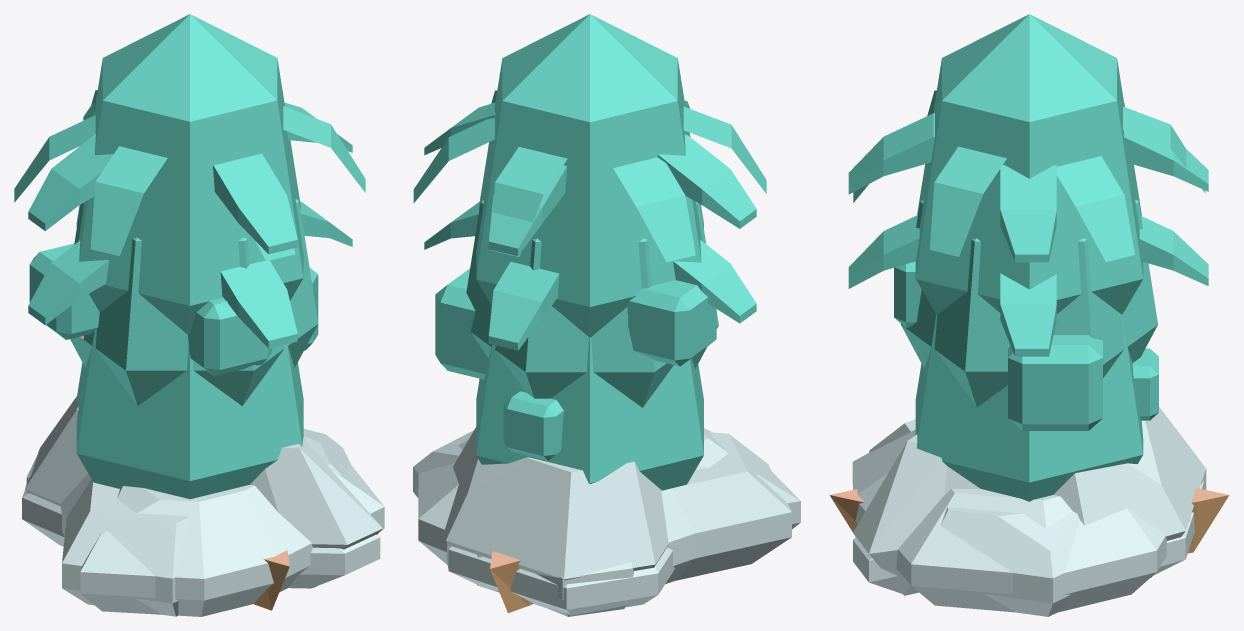
Rendered from nature.glb.
The picture shows the model from 3 angles, left to right: view 1: azimuth 30°, elevation 25°; view 2: azimuth 150°, elevation 25°; view 3: azimuth 270°, elevation 25°; orthographic projection.
Visible parts, largest first — view 1: tree_default, tree_fat, stone_largeC, tree_oak, stone_largeB, stone_largeE, tree_palmTall, tree_palmShort, tree_palmBend, tree_detailed, stone_largeA, canoe; view 2: tree_default, stone_largeB, tree_fat, stone_largeE, tree_detailed, tree_palmBend, tree_oak, tree_palmShort, tree_palmTall, stone_largeA, stone_largeC, canoe; view 3: tree_default, stone_largeC, tree_fat, stone_largeB, tree_oak, tree_palmBend, tree_detailed, tree_palmTall, tree_palmShort, stone_largeE, canoe, stone_largeA.
Part boxes in pixels (<box>): tree_default: <box>76,14,303,334</box>; tree_fat: <box>76,328,303,499</box>; stone_largeC: <box>26,431,384,616</box>; tree_oak: <box>70,199,318,405</box>; stone_largeB: <box>25,396,382,587</box>; stone_largeE: <box>60,428,351,616</box>; tree_palmTall: <box>28,101,352,254</box>; tree_palmShort: <box>28,201,352,348</box>; tree_palmBend: <box>14,90,365,261</box>; tree_detailed: <box>29,243,318,376</box>; stone_largeA: <box>22,489,380,588</box>; canoe: <box>253,550,289,610</box>; tree_default: <box>476,14,703,337</box>; stone_largeB: <box>444,427,668,607</box>; tree_fat: <box>476,337,703,490</box>; stone_largeE: <box>413,430,791,592</box>; tree_detailed: <box>435,268,716,460</box>; tree_palmBend: <box>413,90,766,262</box>; tree_oak: <box>466,200,718,407</box>; tree_palmShort: <box>424,202,756,350</box>; tree_palmTall: <box>424,100,756,255</box>; stone_largeA: <box>446,542,674,615</box>; stone_largeC: <box>418,428,800,616</box>; canoe: <box>490,551,533,613</box>; tree_default: <box>915,14,1143,314</box>; stone_largeC: <box>852,429,1206,612</box>; tree_fat: <box>915,314,1143,501</box>; stone_largeB: <box>853,407,1205,595</box>; tree_oak: <box>901,199,1157,407</box>; tree_palmBend: <box>853,90,1205,261</box>; tree_detailed: <box>894,261,1158,430</box>; tree_palmTall: <box>848,113,1208,262</box>; tree_palmShort: <box>848,215,1208,356</box>; stone_largeE: <box>869,419,1189,616</box>; canoe: <box>829,488,1229,553</box>; stone_largeA: <box>853,480,1204,593</box>.
Bounding box in the file's own units: 1.1 × 1.71 × 1.15.
